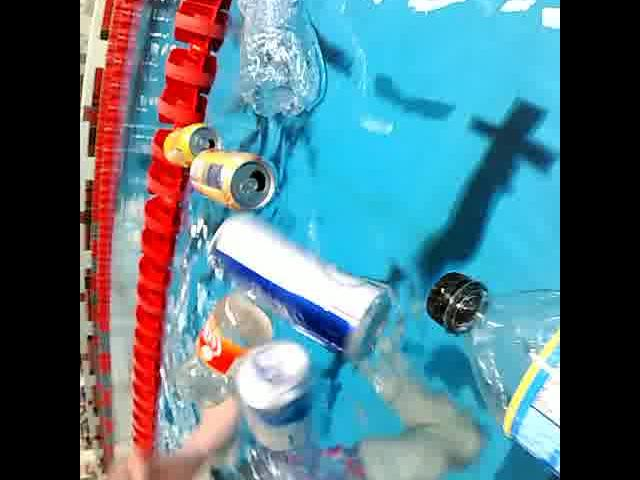Bottle: (407, 261, 560, 480), (171, 281, 275, 418), (229, 0, 325, 127)
Can: (206, 210, 396, 368), (232, 328, 324, 476), (184, 140, 284, 213), (160, 121, 222, 171)
